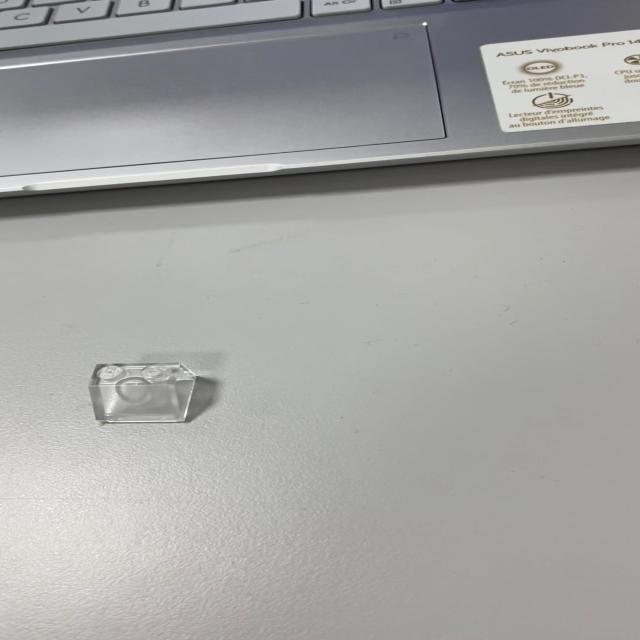P2x2x1: (86, 361, 198, 424)
